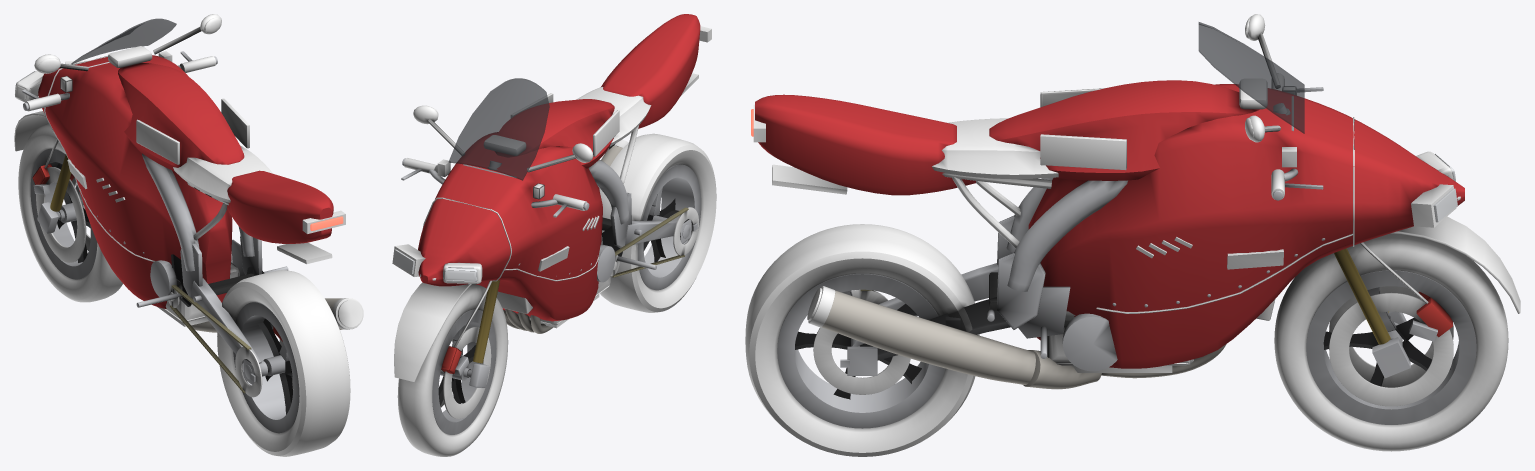
The model's file is moto0.fbx.
3 views of the same model, side by side, from view 1: azimuth 30°, elevation 25°; view 2: azimuth 150°, elevation 25°; view 3: azimuth 270°, elevation 25° (orthographic). The views are drawn at different scales.
Parts seen in each view (by area): view 1: body, rear, front, steer, swing, screen; view 2: body, rear, front, steer, screen, swing; view 3: body, front, rear, steer, screen, swing.
Boxes of the visible parts, box(x1,y1,x2,y2) form: body: box(15, 14, 363, 332); rear: box(217, 270, 350, 456); front: box(18, 123, 122, 302); steer: box(14, 51, 217, 233); swing: box(168, 266, 282, 393); screen: box(71, 18, 176, 64); body: box(392, 14, 711, 333); rear: box(599, 133, 716, 312); front: box(397, 284, 508, 456); steer: box(394, 158, 589, 388); screen: box(449, 78, 549, 180); swing: box(602, 207, 697, 277); body: box(751, 14, 1464, 389); front: box(1274, 233, 1508, 451); rear: box(745, 224, 979, 456); steer: box(1271, 73, 1520, 378); screen: box(1198, 22, 1304, 133); swing: box(840, 263, 1010, 375).
Size of the model in its own units: 0.744 by 1.23 by 2.05.
